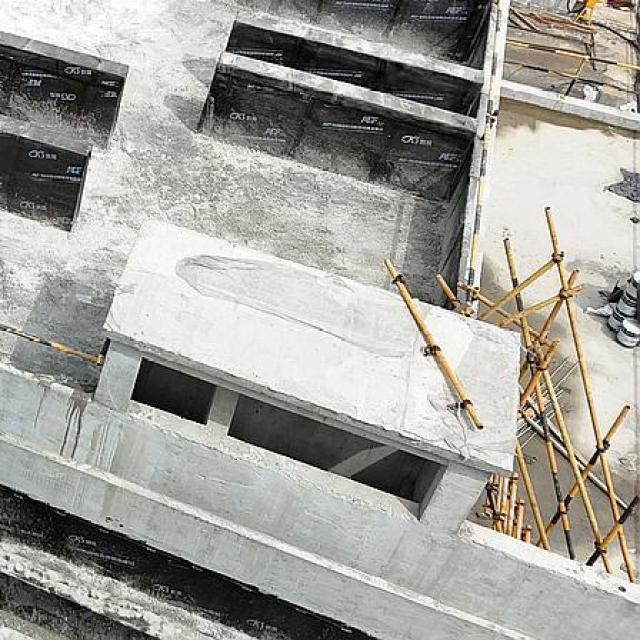edge_guardrail: (464, 0, 504, 319), (504, 39, 640, 97), (0, 323, 111, 369)
